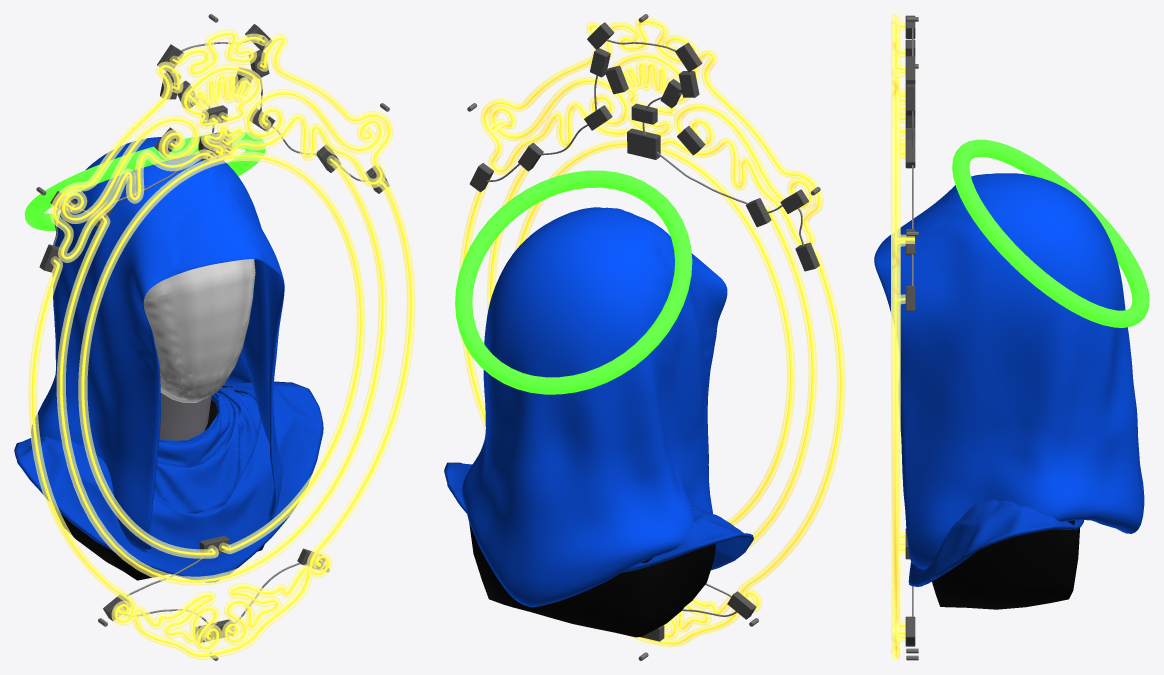
Rendered from framedOurLady.glb.
The picture shows the model from 3 angles, left to right: view 1: azimuth 30°, elevation 25°; view 2: azimuth 150°, elevation 25°; view 3: azimuth 270°, elevation 25°; orthographic projection.
Visible parts, largest first — view 1: headwear, Glass, Emissive, face, Cubes, Halo, neck, bust, Cable; view 2: headwear, Glass, Halo, Emissive, bust, Cubes, Cable; view 3: headwear, bust, Halo, Glass, Cubes, Emissive.
Boxes of the visible parts, x1,y1,x2,y2 form: headwear: (14, 137, 323, 582); Glass: (28, 29, 415, 660); Emissive: (31, 32, 412, 656); face: (143, 259, 255, 402); Cubes: (39, 24, 389, 642); Halo: (24, 132, 265, 230); neck: (159, 393, 211, 440); bust: (54, 386, 264, 580); Cable: (53, 40, 369, 623); headwear: (444, 207, 753, 607); Glass: (458, 17, 845, 647); Halo: (455, 170, 692, 394); Emissive: (463, 20, 842, 644); bust: (469, 523, 715, 637); Cubes: (469, 22, 819, 641); Cable: (486, 39, 804, 616); headwear: (874, 173, 1144, 586); bust: (932, 520, 1080, 609); Halo: (952, 139, 1149, 327); Glass: (891, 14, 914, 660); Cubes: (905, 15, 915, 646); Emissive: (894, 17, 914, 657).
Size of the model in its own units: 0.0966 by 0.1536 by 0.0597.
